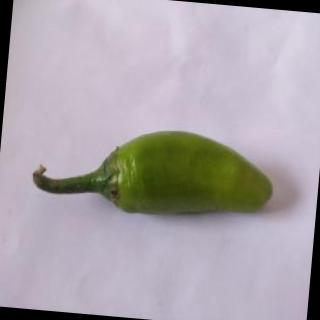Cabai Hijau: (31, 116, 280, 227)
